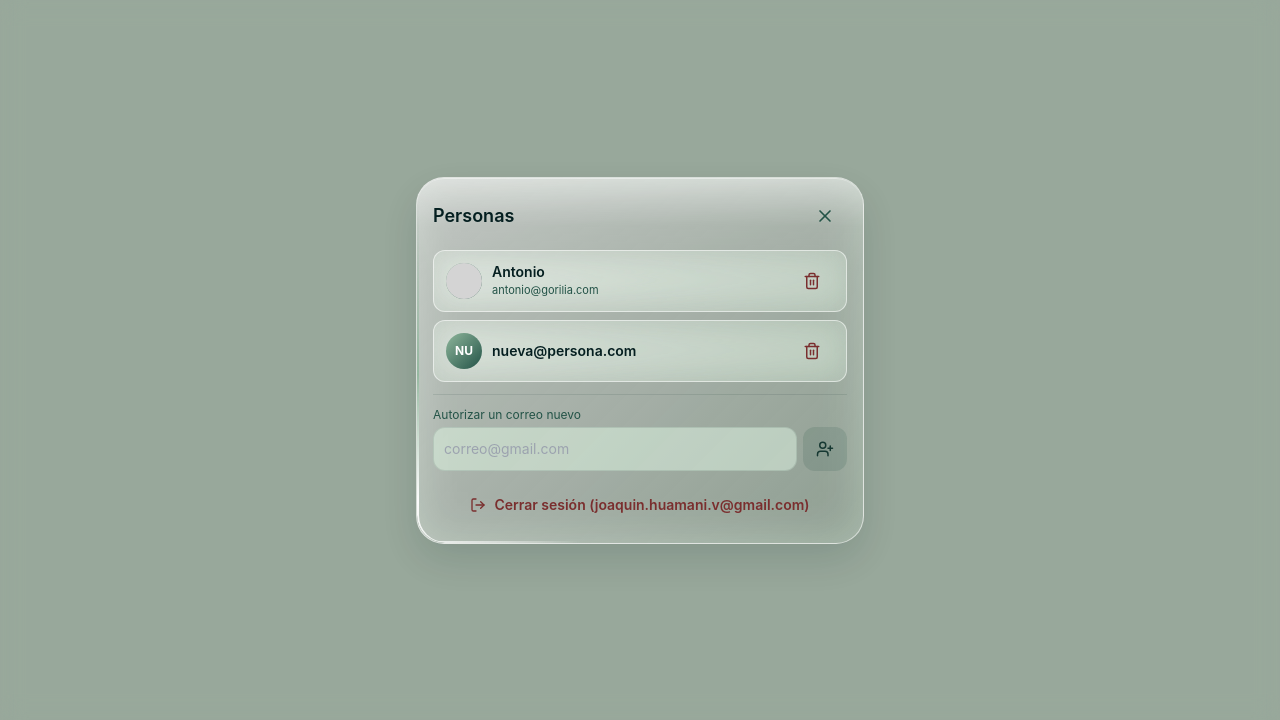
Test: UsersPanel › calls onAdd with the trimmed email and clears the input
The width and height of the screenshot is (1280, 720).
Type "  otra@persona.com  " into the field labelled "Autorizar un correo nuevo" at {"x": 615, "y": 448}, box [433,426,797,470]
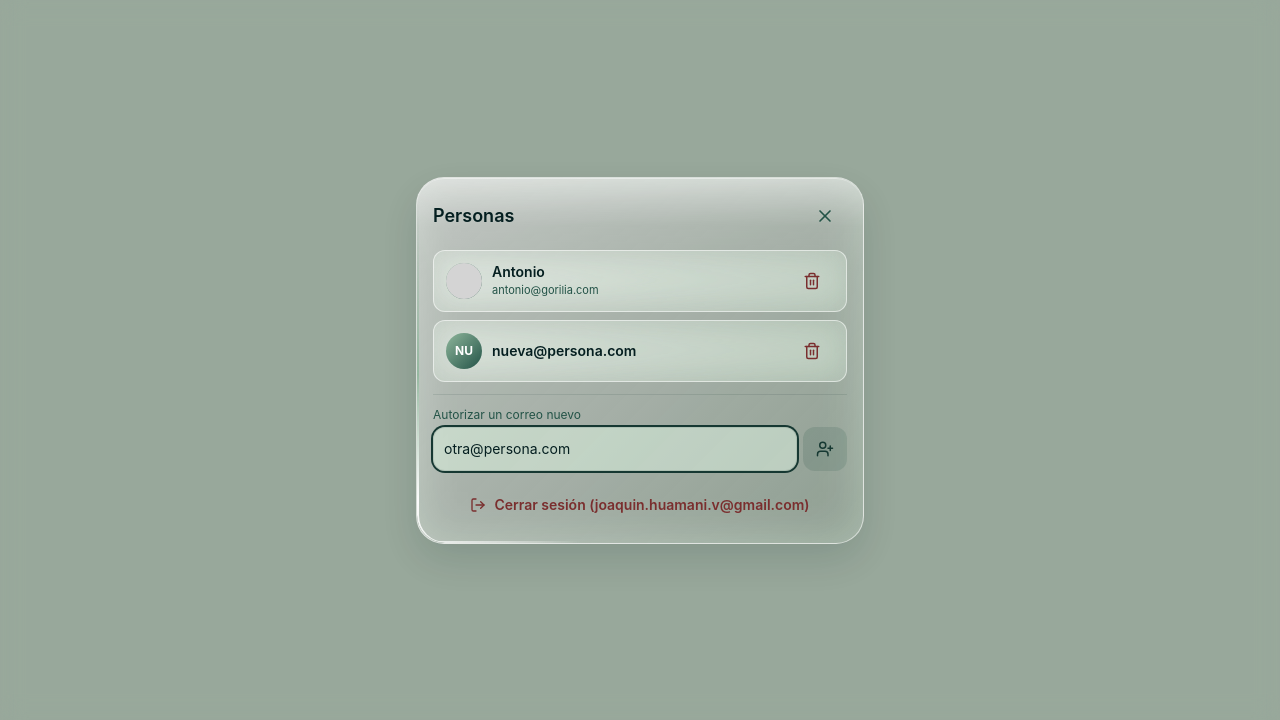
Click the button named "Autorizar correo" at {"x": 825, "y": 448}, box [803,426,847,470]
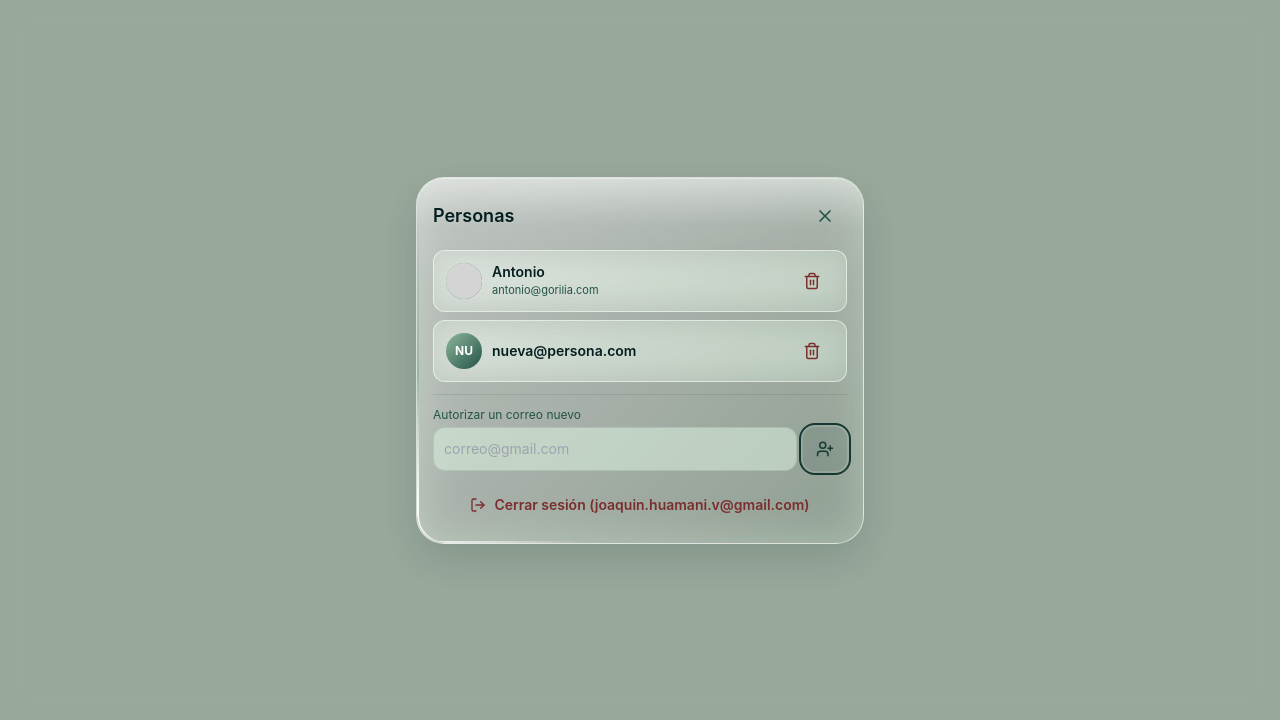
Expected: the field labelled "Autorizar un correo nuevo" is empty, [433,426,797,470]
